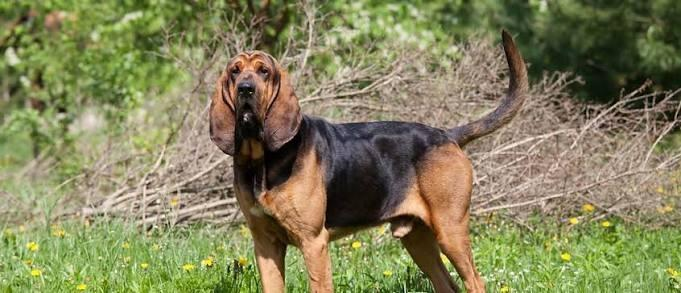adult_dog: (209, 25, 530, 293)
